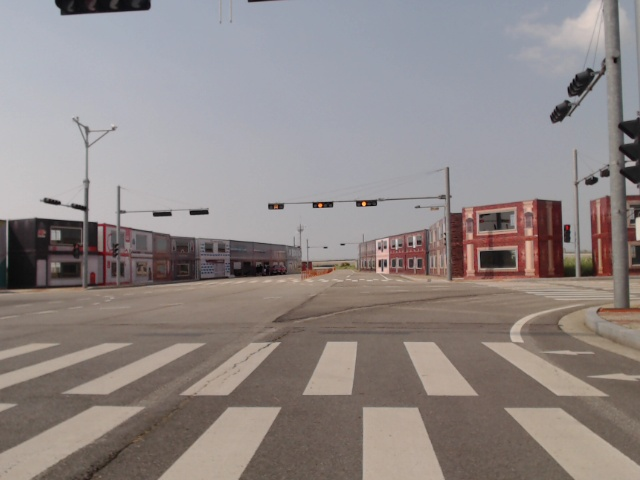orange_4: (310, 200, 334, 209), (354, 199, 378, 208)
